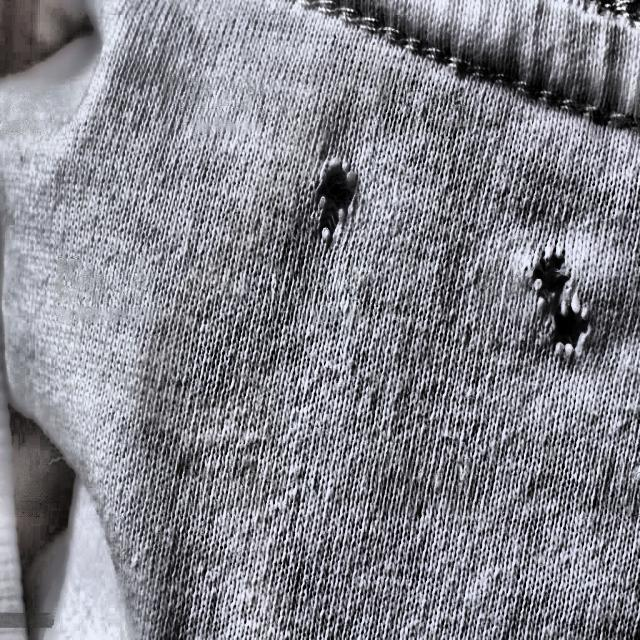Hole: (525, 230, 597, 370), (300, 146, 366, 259)
